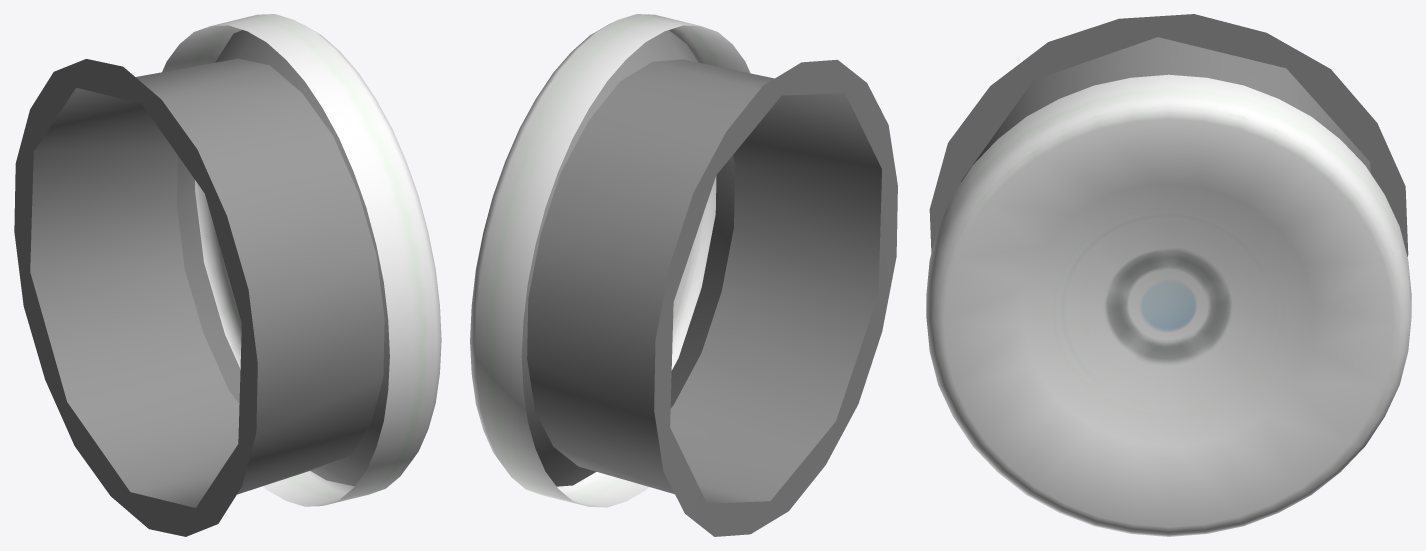
Rendered from blured_wheel.fbx.
The picture shows the model from 3 angles, left to right: view 1: azimuth 30°, elevation 25°; view 2: azimuth 150°, elevation 25°; view 3: azimuth 270°, elevation 25°; orthographic projection.
Visible parts, largest first — view 1: wheel_blured; view 2: wheel_blured; view 3: wheel_blured.
Boxes of the visible parts, x1=… form: wheel_blured: x1=14, y1=14, x2=441, y2=536; wheel_blured: x1=470, y1=14, x2=897, y2=536; wheel_blured: x1=926, y1=14, x2=1411, y2=536.
Bounding box in the file's own units: 10.06 × 22.69 × 22.69.
